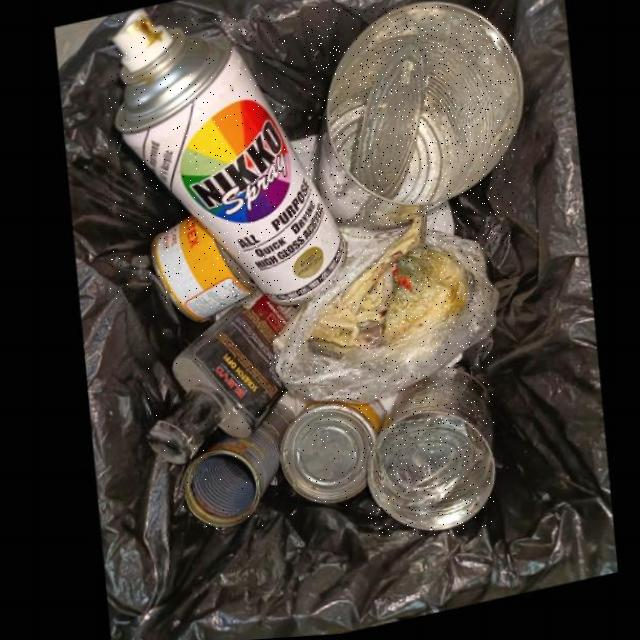biowaste: (305, 221, 469, 366)
metal: (109, 16, 338, 302), (306, 6, 515, 243), (367, 371, 494, 536), (179, 407, 293, 529), (145, 217, 255, 322), (277, 405, 383, 507)
plastic: (270, 223, 495, 410), (147, 303, 295, 467)
